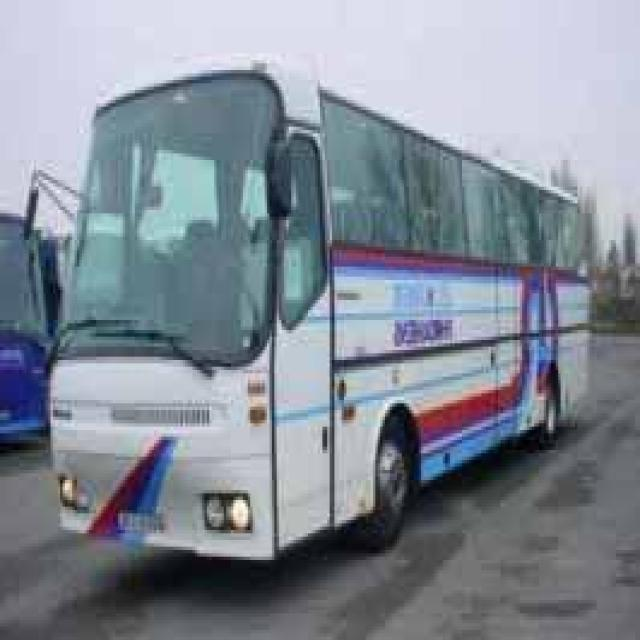bus: (16, 55, 600, 575)
